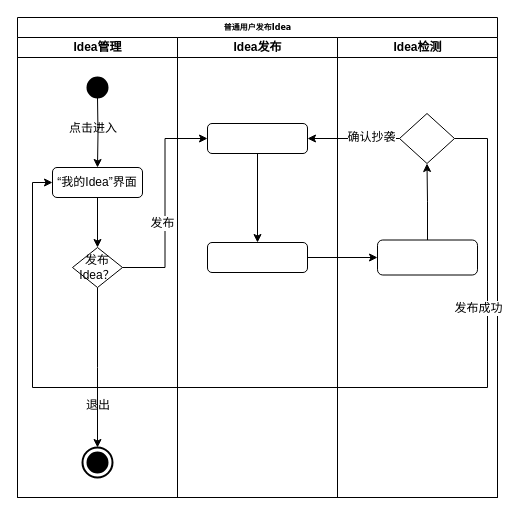
Image size: 519x515. Some labels were removed from this diagram. Each missing label, with the centre of its shape:
检测发布的Idea: the point at 427,257
编辑Idea: the point at 257,138
选择发布类型: the point at 257,257
